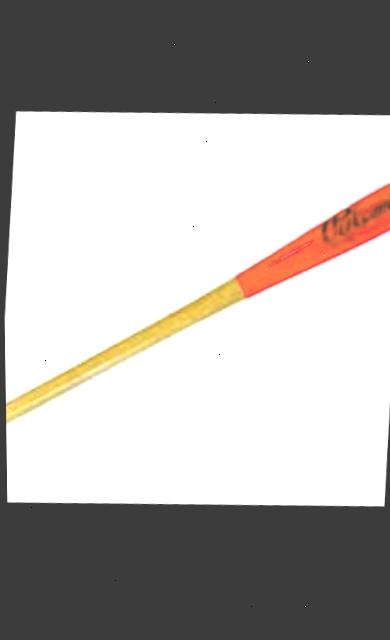baseball bat: (4, 184, 390, 439)
